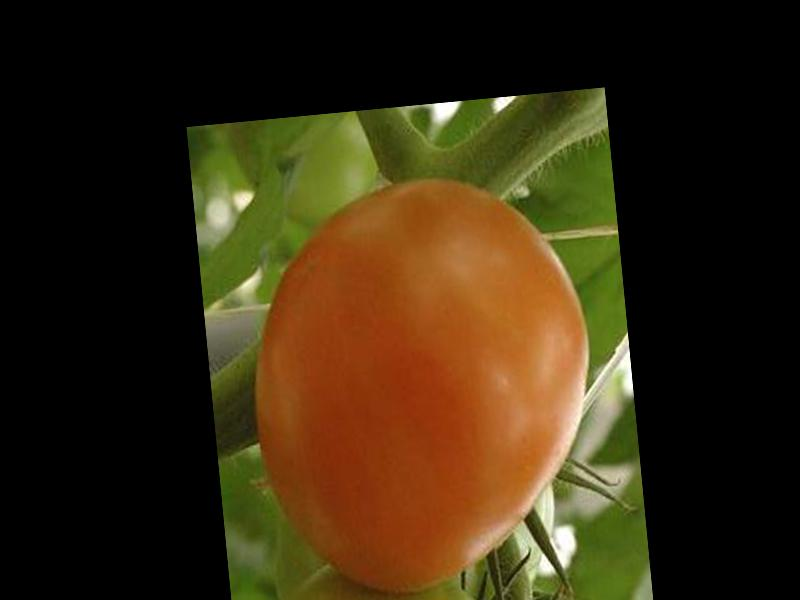Tomato: (236, 165, 611, 600)
